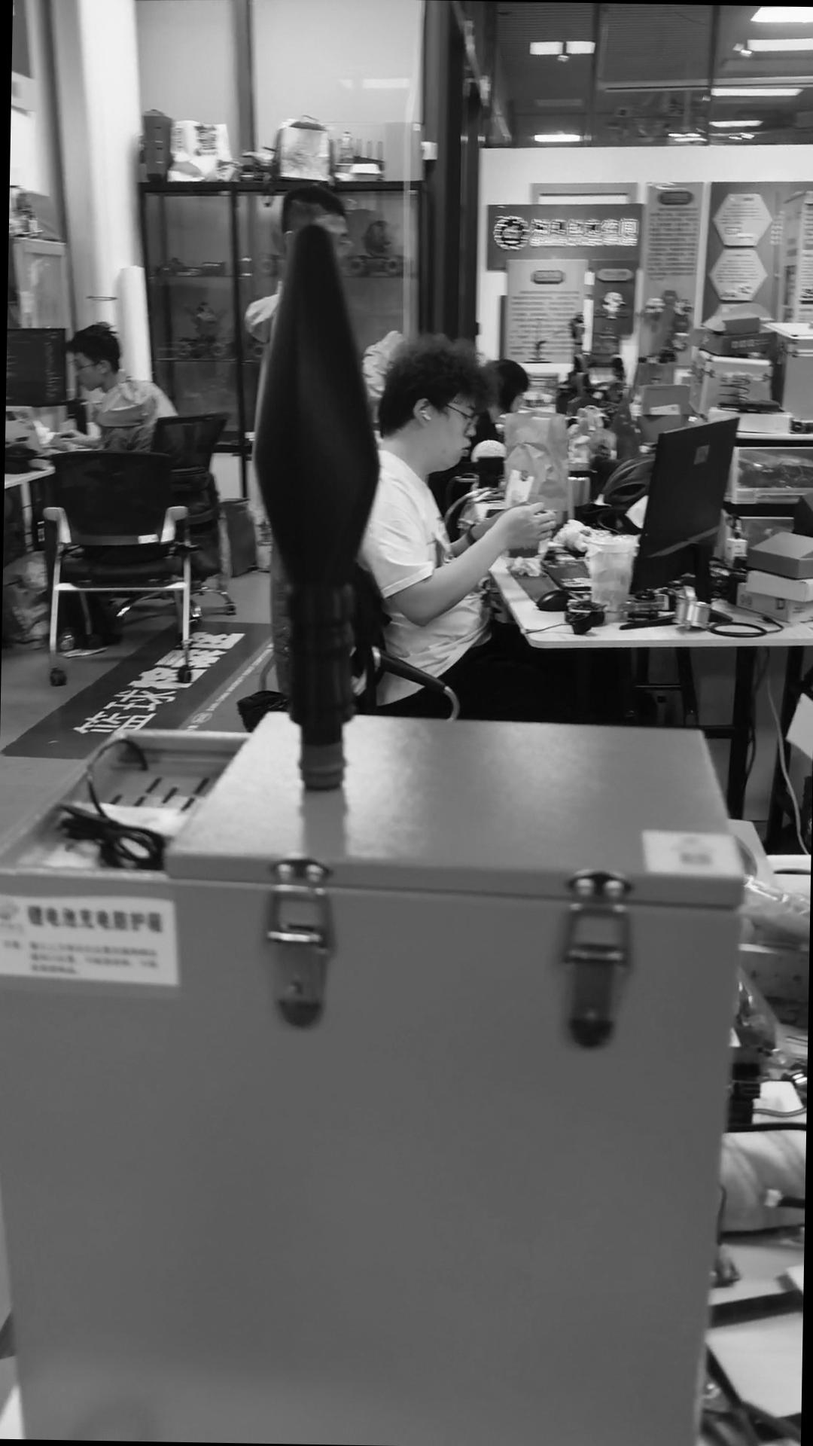base: (297, 739, 348, 792)
